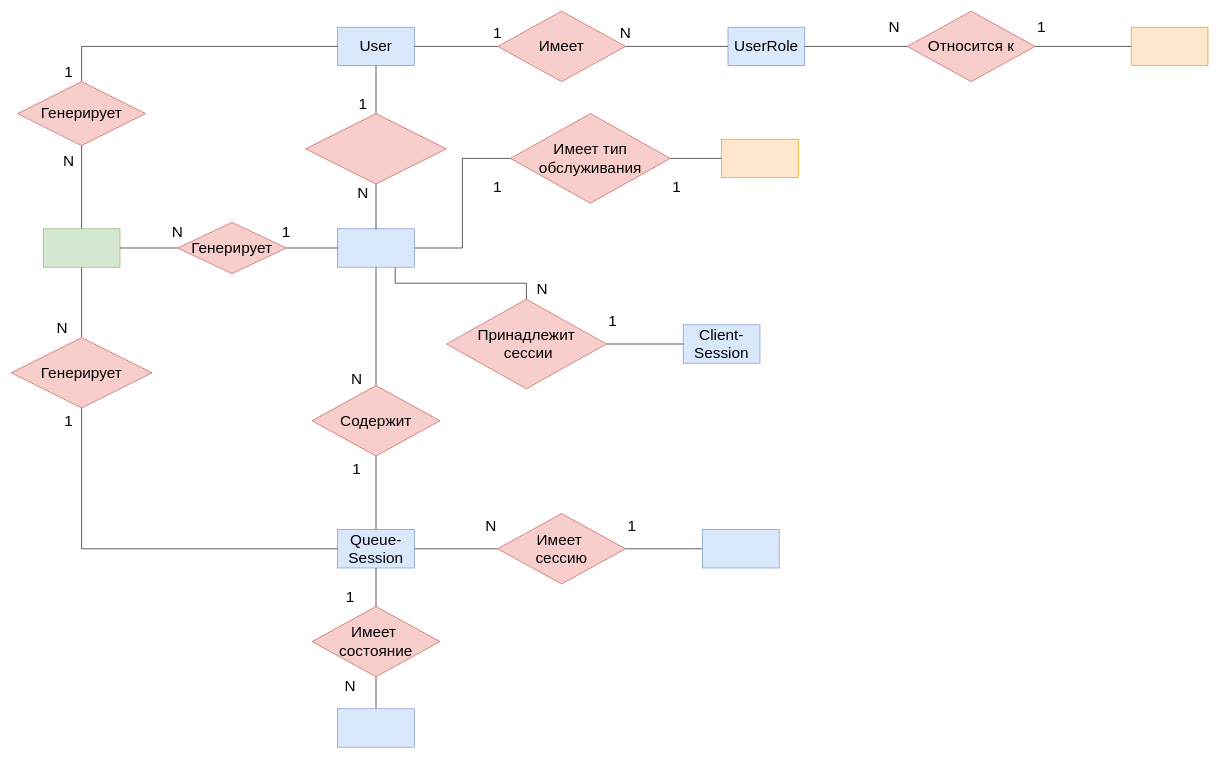
This 1219x758 diagram has some shape labels left out. Here are the shapes that lost their labels. From the top down, the box of each, then its label:
(1131, 27, 1208, 66): Role
(305, 113, 446, 184): Обслуживается
(721, 139, 798, 178): Service-Type
(43, 228, 120, 267): EventLog
(337, 228, 414, 267): Ticket
(702, 529, 779, 568): Queue
(337, 708, 414, 747): Executor-State
